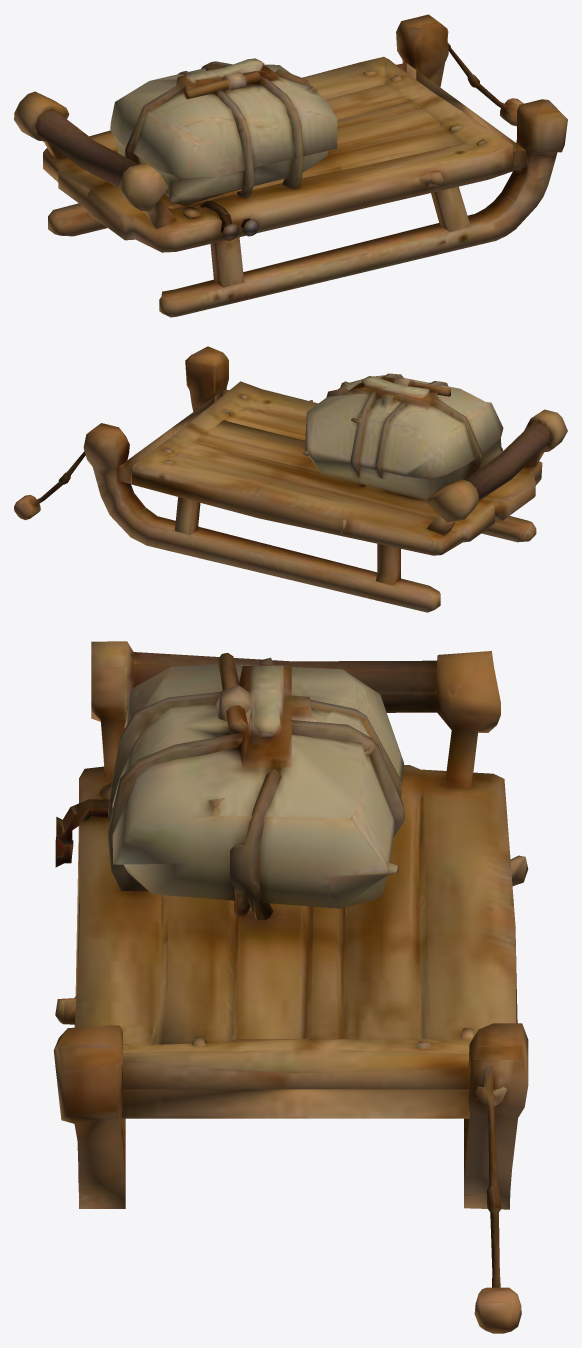
The model's file is sled.glb.
3 views of the same model, one above another, from view 1: azimuth 30°, elevation 25°; view 2: azimuth 150°, elevation 25°; view 3: azimuth 270°, elevation 25° (orthographic). The views are drawn at different scales.
Visible parts, largest first — view 1: tripo_node_d9ef12c1-8c03-4b84-9f25-760cb1abea5a; view 2: tripo_node_d9ef12c1-8c03-4b84-9f25-760cb1abea5a; view 3: tripo_node_d9ef12c1-8c03-4b84-9f25-760cb1abea5a.
Part boxes in pixels (x1,y1,x2,y2): tripo_node_d9ef12c1-8c03-4b84-9f25-760cb1abea5a: [14, 14, 567, 317]; tripo_node_d9ef12c1-8c03-4b84-9f25-760cb1abea5a: [14, 346, 567, 612]; tripo_node_d9ef12c1-8c03-4b84-9f25-760cb1abea5a: [53, 641, 528, 1333].
Size of the model in its own units: 1 by 0.3571 by 0.4577.
1 material, 1 textured.
